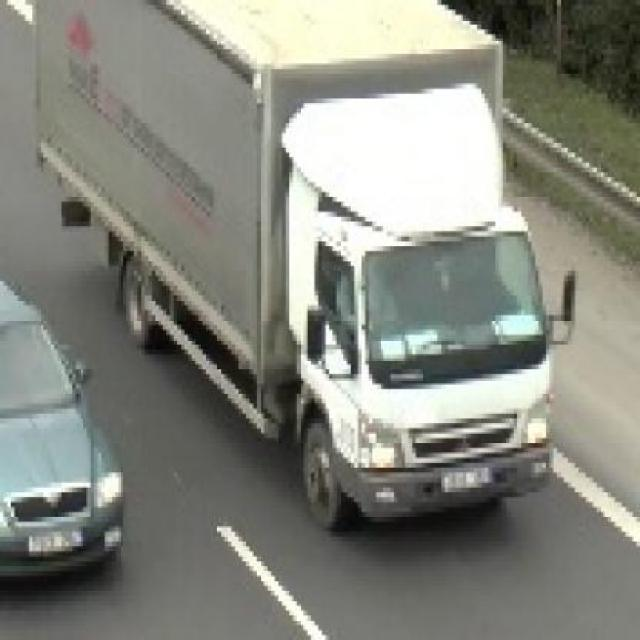truck: (33, 1, 572, 527)
